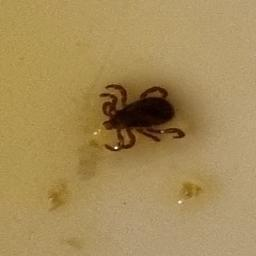Rhipicephalus sanguineus: (97, 85, 186, 152)
